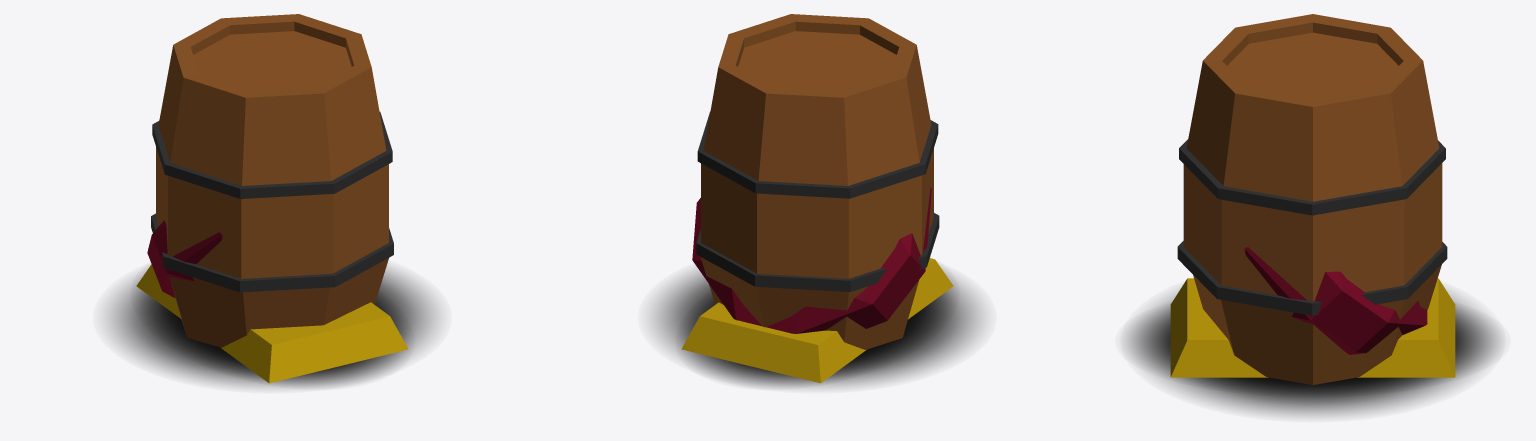
Rendered from 3DAssets.glb.
The picture shows the model from 3 angles, left to right: view 1: azimuth 30°, elevation 25°; view 2: azimuth 150°, elevation 25°; view 3: azimuth 270°, elevation 25°; orthographic projection. The views are drawn at different scales.
Parts seen in each view (by area): view 1: Barrel, Shadow, Gold, Shadow.002, Ruby; view 2: Barrel, Shadow, Gold, Ruby, Shadow.002; view 3: Barrel, Shadow, Gold, Ruby, Shadow.002.
Boxes of the visible parts, box(x1,y1,x2,y2) form: Barrel: box(151, 14, 393, 347); Shadow: box(107, 267, 438, 387); Gold: box(136, 264, 408, 383); Shadow.002: box(147, 297, 393, 383); Ruby: box(147, 220, 222, 298); Barrel: box(696, 14, 939, 349); Shadow: box(651, 269, 982, 387); Gold: box(681, 258, 953, 383); Ruby: box(692, 188, 931, 333); Shadow.002: box(696, 342, 892, 382); Barrel: box(1177, 14, 1447, 384); Shadow: box(1135, 293, 1490, 415); Gold: box(1170, 278, 1455, 377); Ruby: box(1244, 247, 1427, 354); Shadow.002: box(1132, 313, 1493, 369).
Size of the model in its own units: 0.7987 by 0.6098 by 0.822.
Materials: 5 (1 with a texture image).
